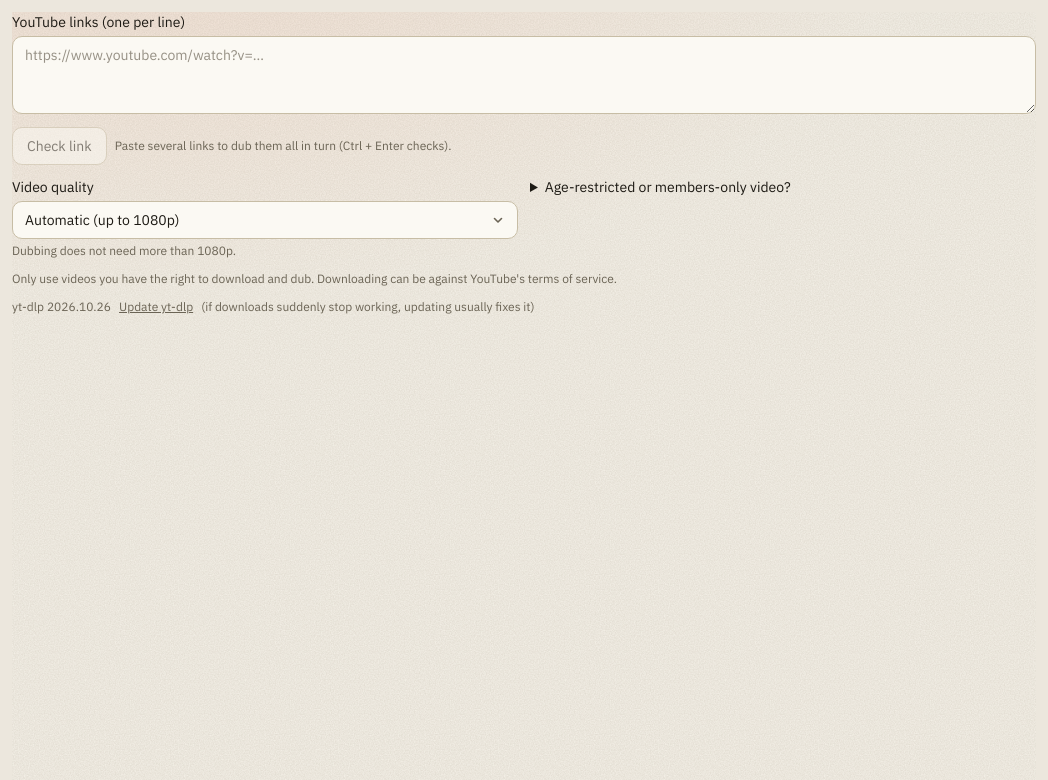
YoutubeSource › does not accept a live stream
The width and height of the screenshot is (1048, 780).
Type "https://youtu.be/abc" into the text box labelled "YouTube links (one per line)". click: (524, 75)
box: [12,36,1036,114]
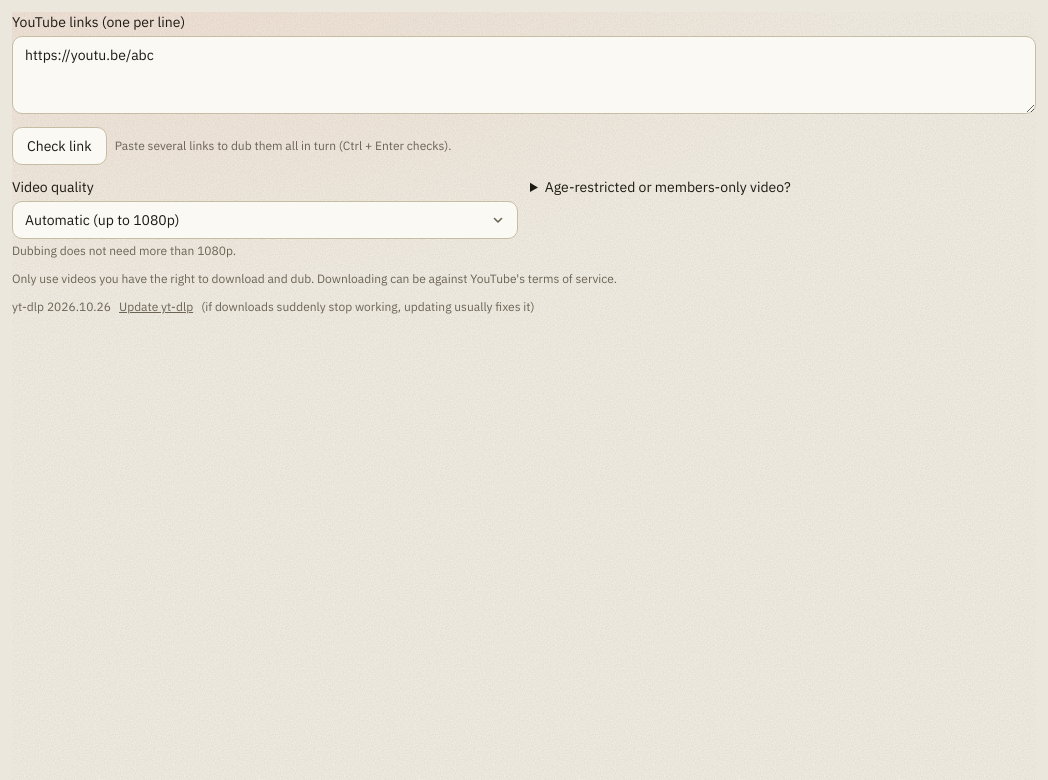
Click the button "Check link". click: click(59, 146)
box: [12,127,107,165]
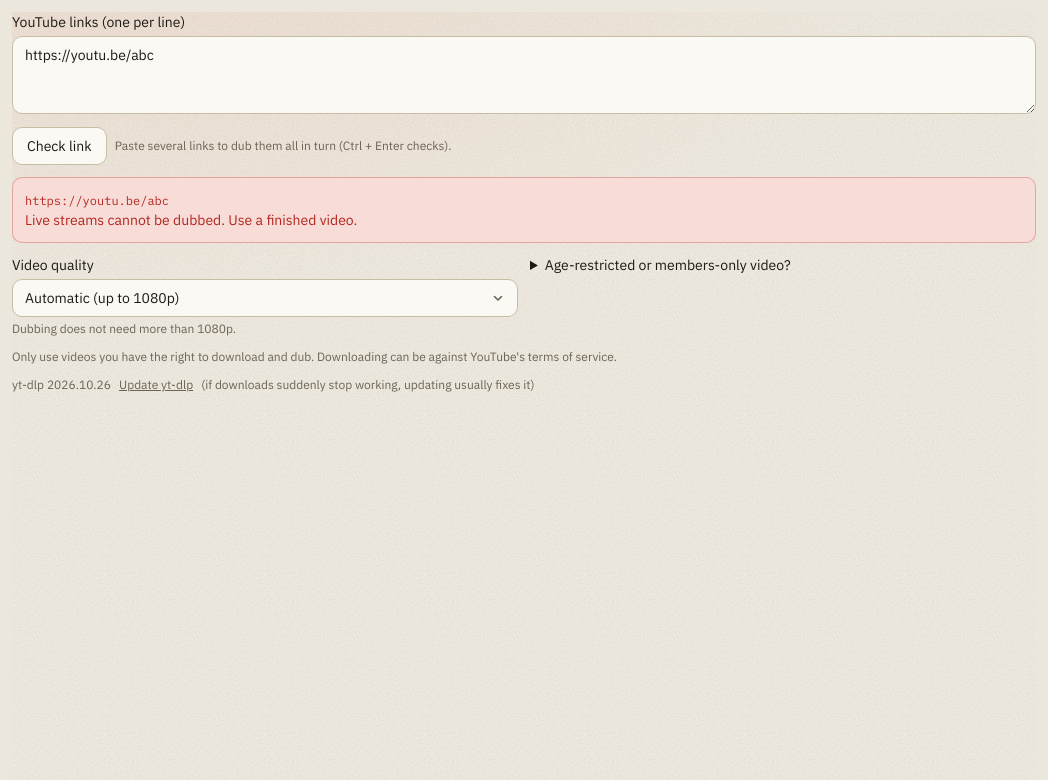
Check: the message shows "Live streams", box [25,211,357,229]
